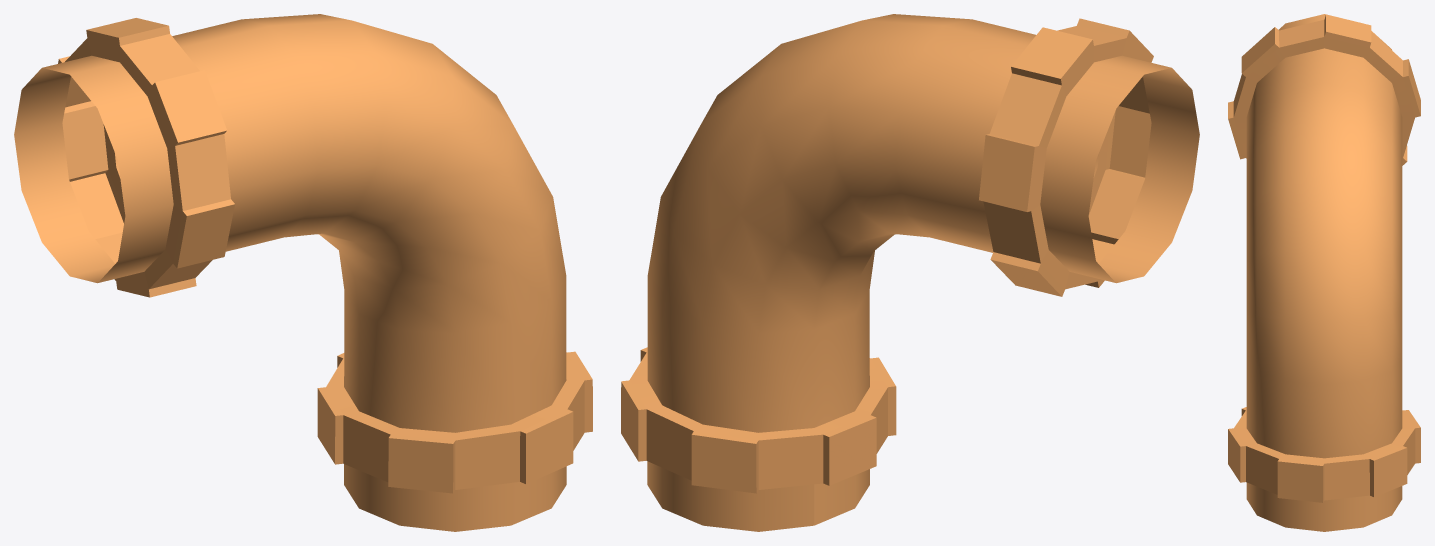
File: SPipe_curve.fbx
3 views of the same model, side by side, from view 1: azimuth 30°, elevation 25°; view 2: azimuth 150°, elevation 25°; view 3: azimuth 270°, elevation 25° (orthographic). The views are drawn at different scales.
Visible parts, largest first — view 1: SPipe_curve; view 2: SPipe_curve; view 3: SPipe_curve.
Part boxes in pixels (<box>): SPipe_curve: <box>14,14,592,531</box>; SPipe_curve: <box>621,14,1199,531</box>; SPipe_curve: <box>1228,14,1420,531</box>.
Bounding box in the file's own units: 262 × 262 × 124.
